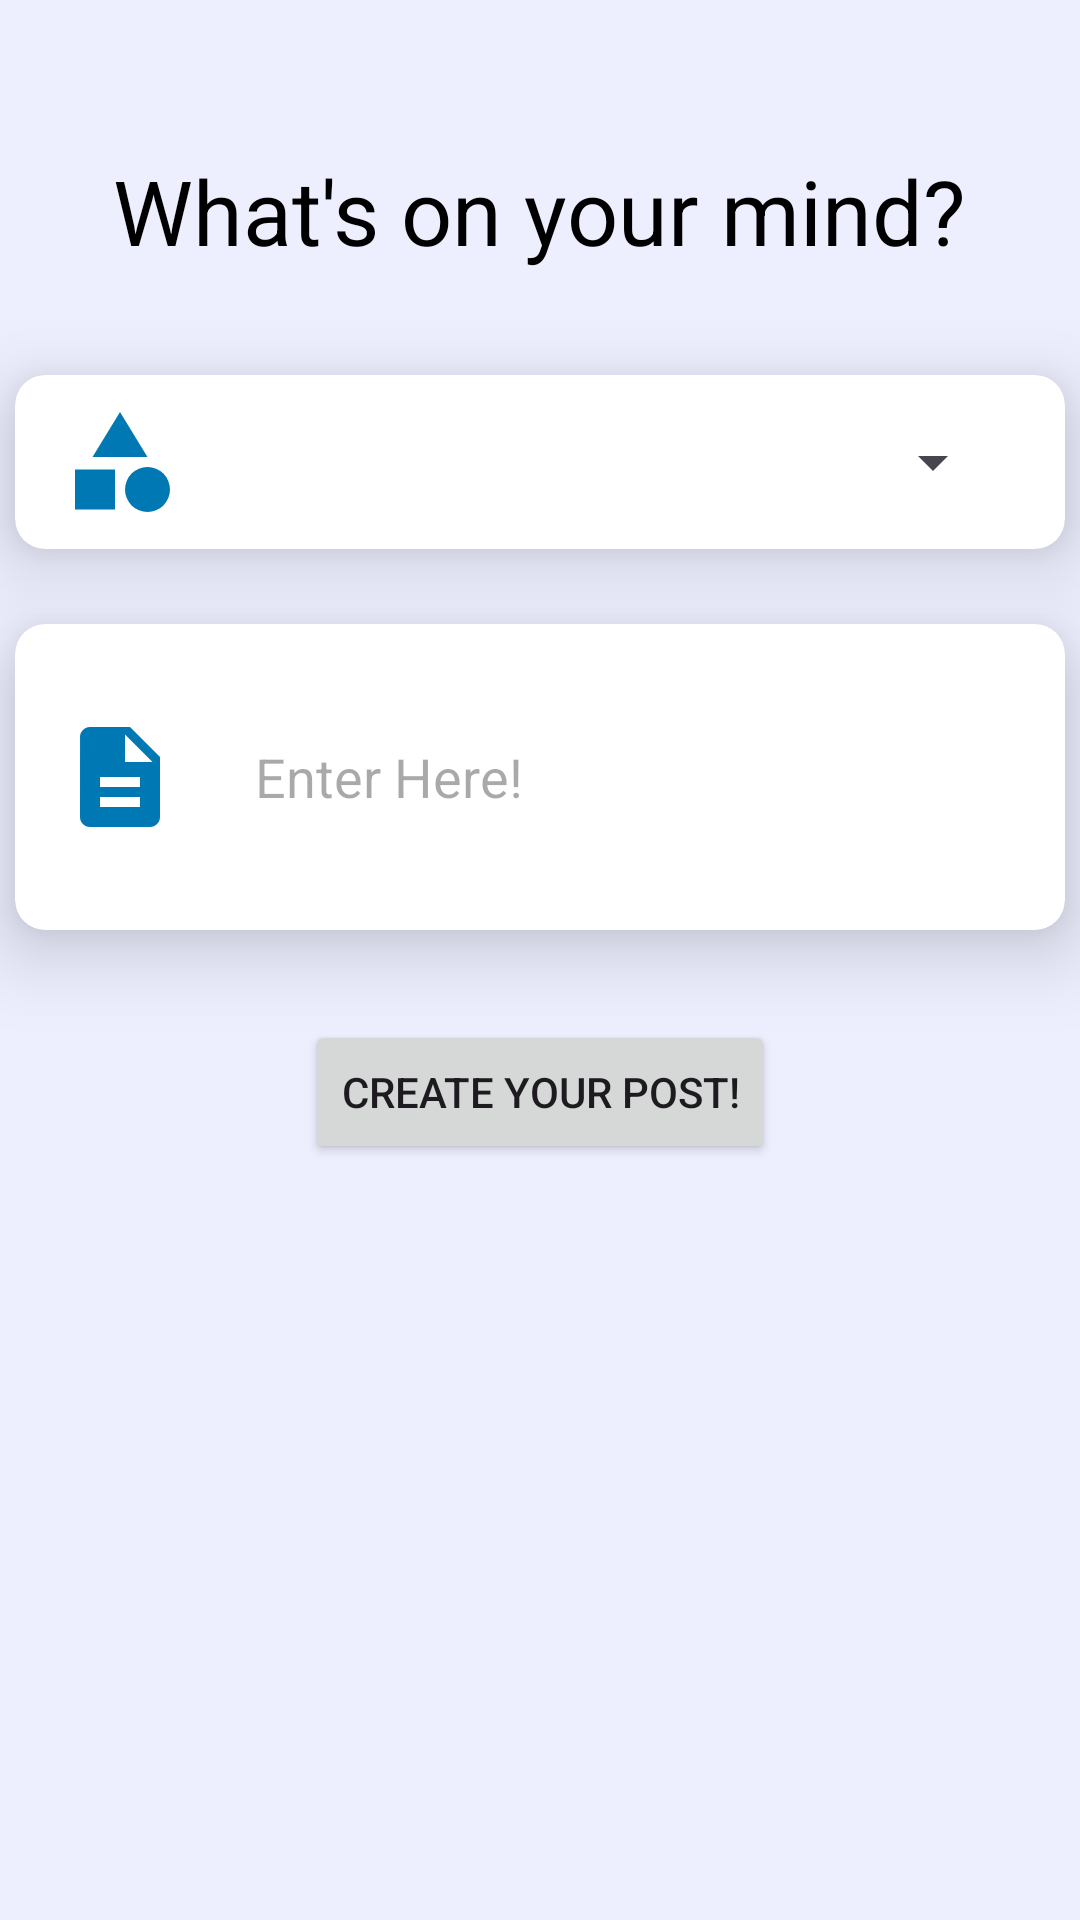

Icon click points for this 1080*1920 phone screenshot, format [x,y]:
category: [122,462]
descriptionicon: [120,777]
